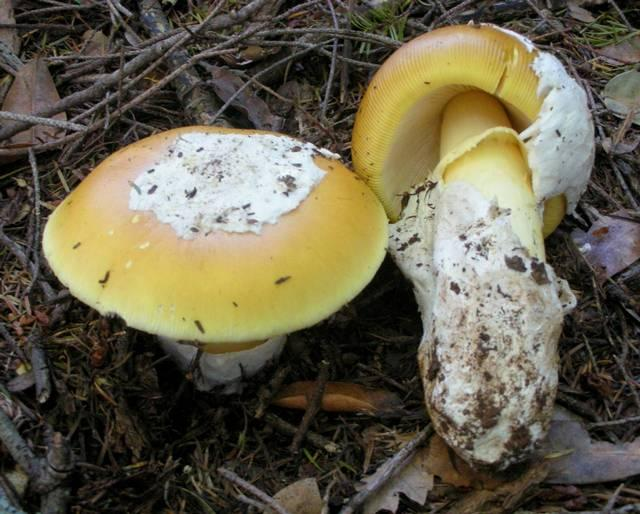edible_mushroom: (349, 21, 596, 473), (40, 123, 389, 394)
